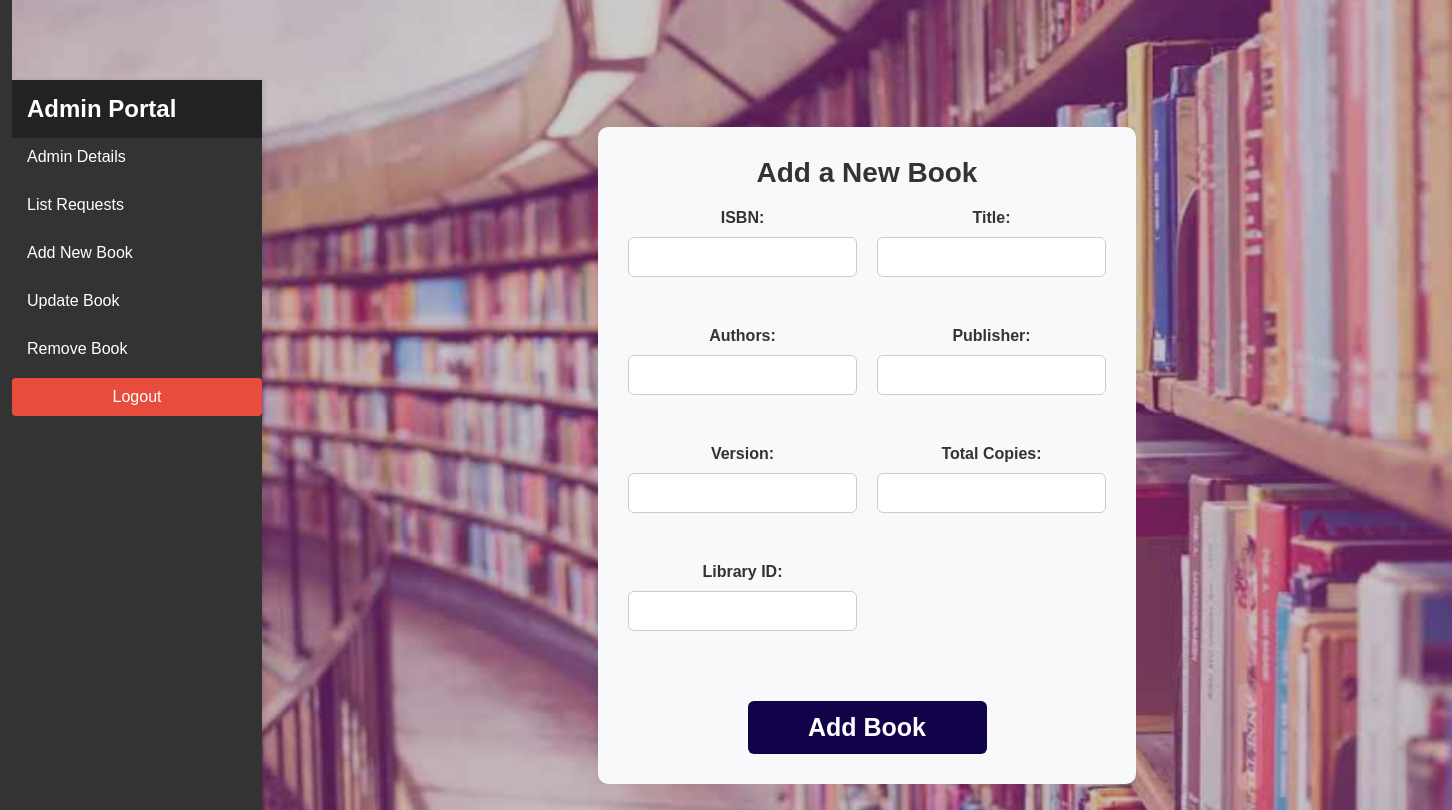
Test: submits form and handles success response
This screenshot has width=1452, height=810.
Note: Fill out the form
Step 1. Type "123456789" into the field labelled "ISBN:" → (742, 256), box [628,236,857,276]
Step 2. Type "React for Beginners" into the field labelled "Title:" → (992, 256), box [877,236,1106,276]
Step 3. Type "John Doe" into the field labelled "Authors:" → (742, 374), box [628,354,857,394]
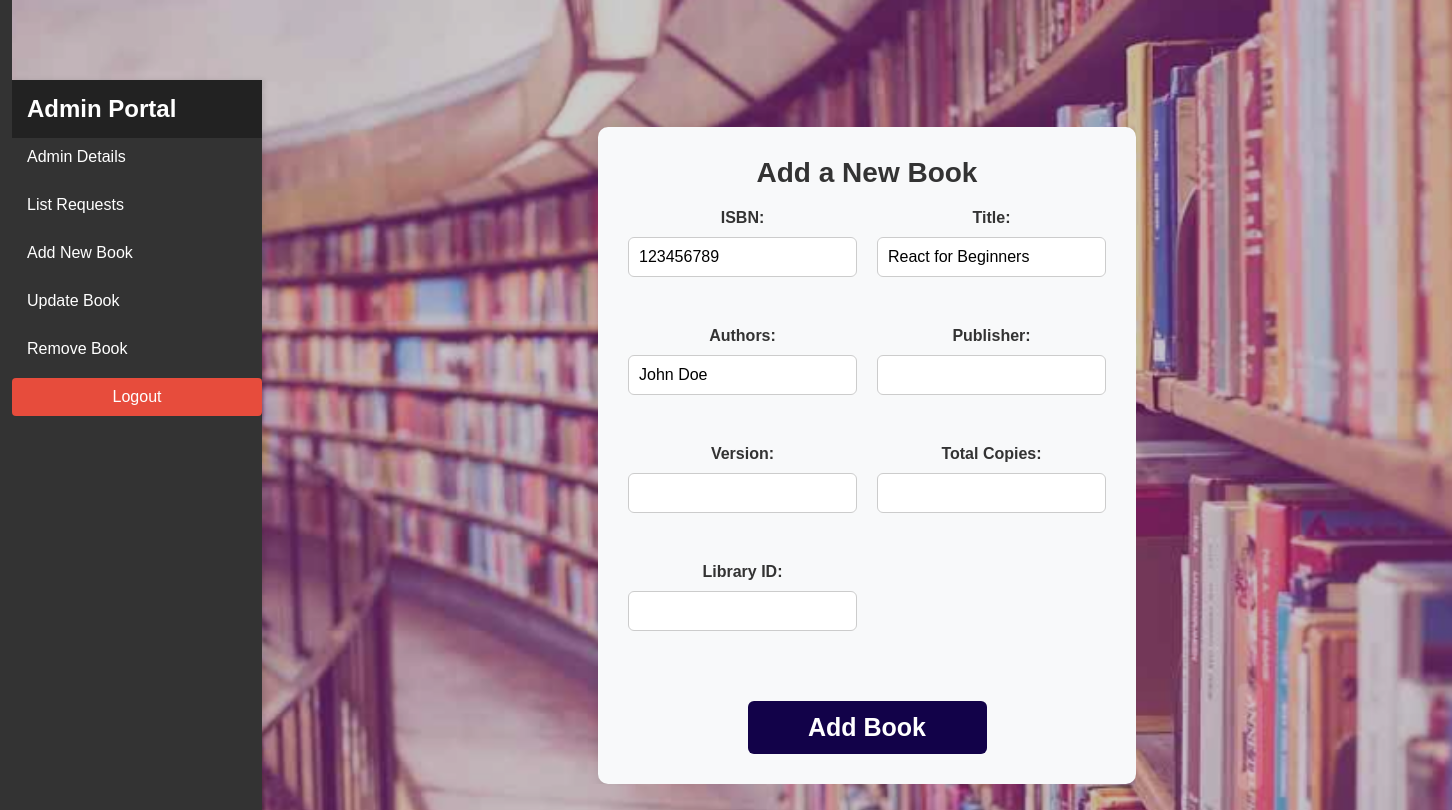
Step 4. Type "Tech Books" into the field labelled "Publisher:" → (992, 374), box [877,354,1106,394]
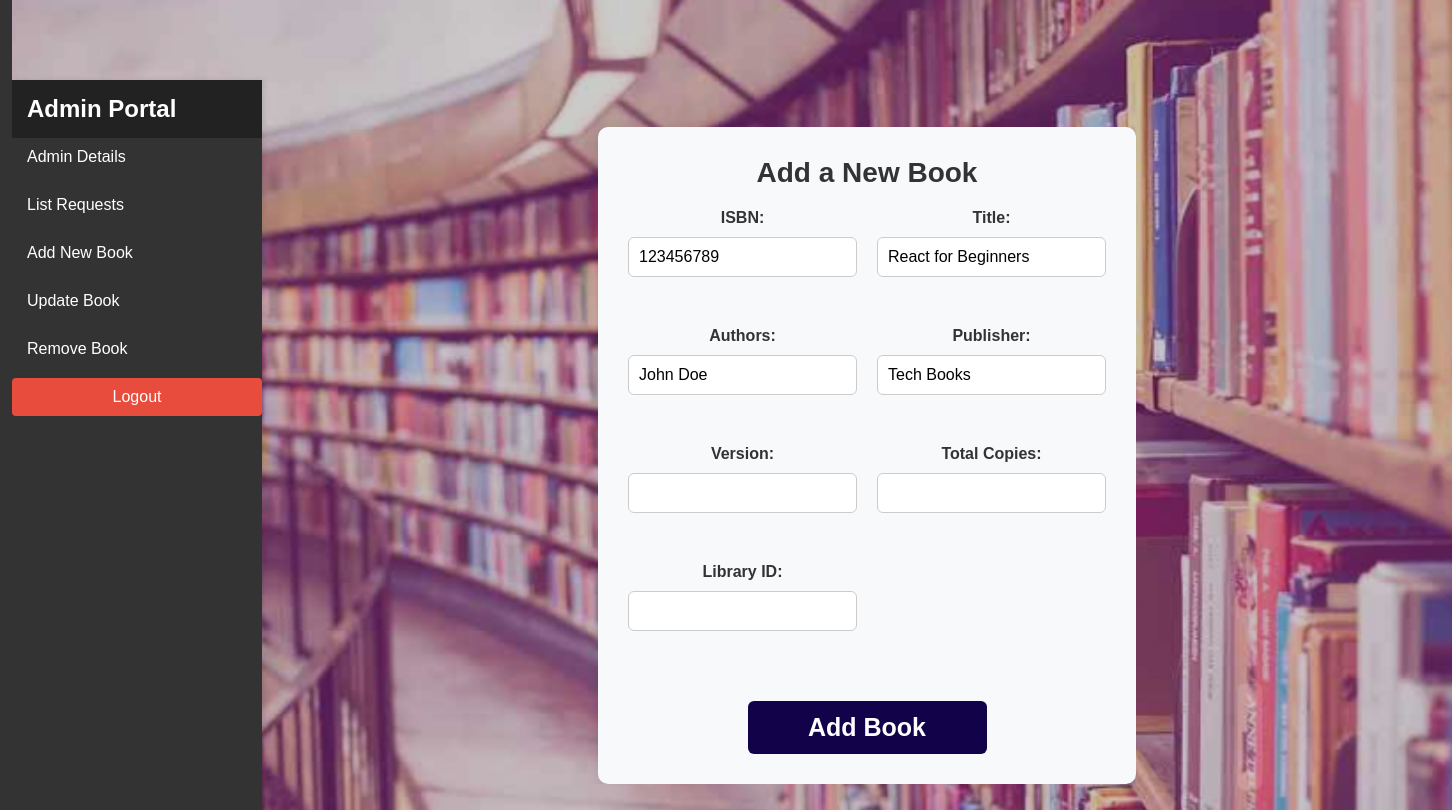
Step 5. Type "1.0" into the field labelled "Version:" → (742, 492), box [628,472,857,512]
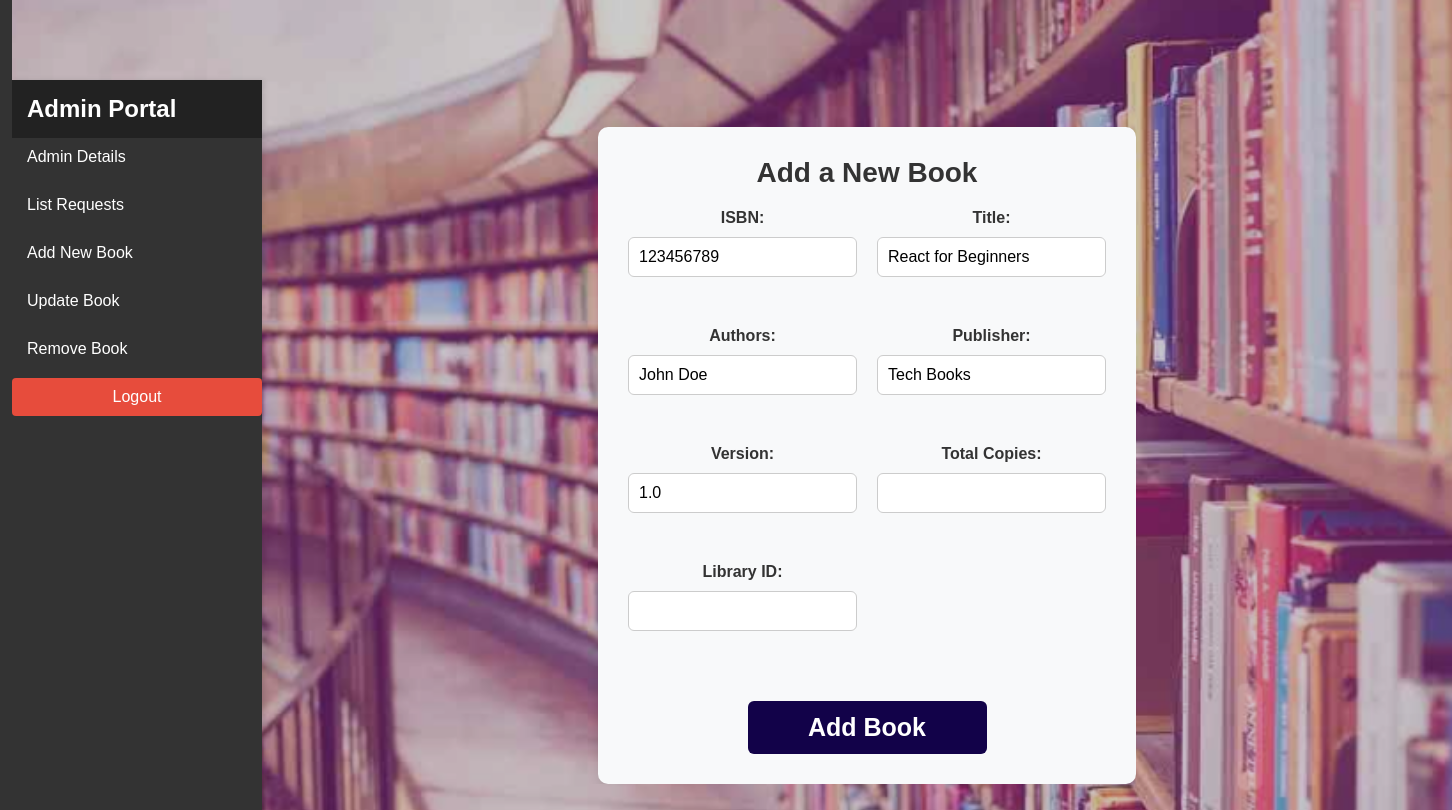
Step 6. Type "10" into the number field labelled "Total Copies:" → (992, 492), box [877,472,1106,512]
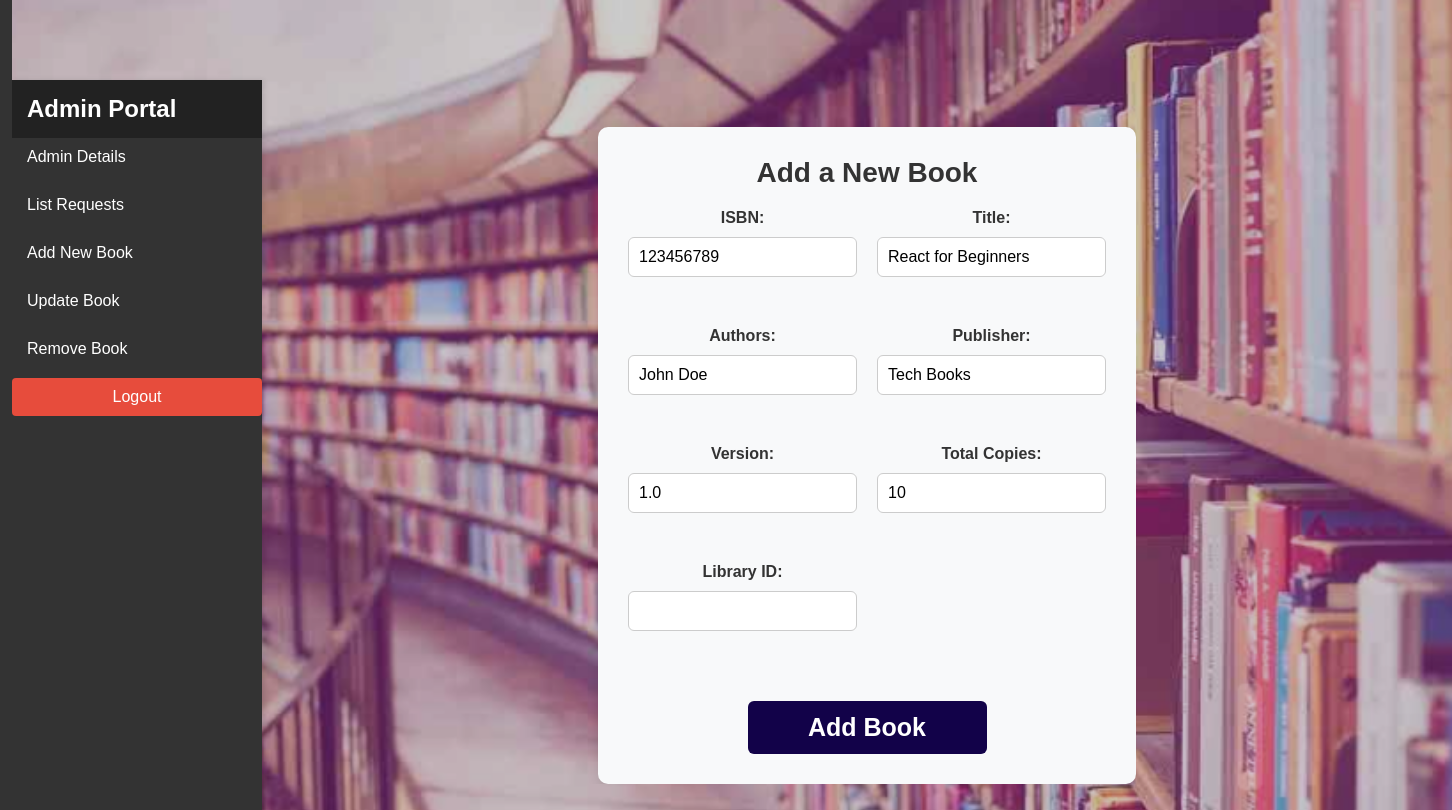
Step 7. Type "1" into the number field labelled "Library ID:" → (742, 610), box [628,590,857,630]
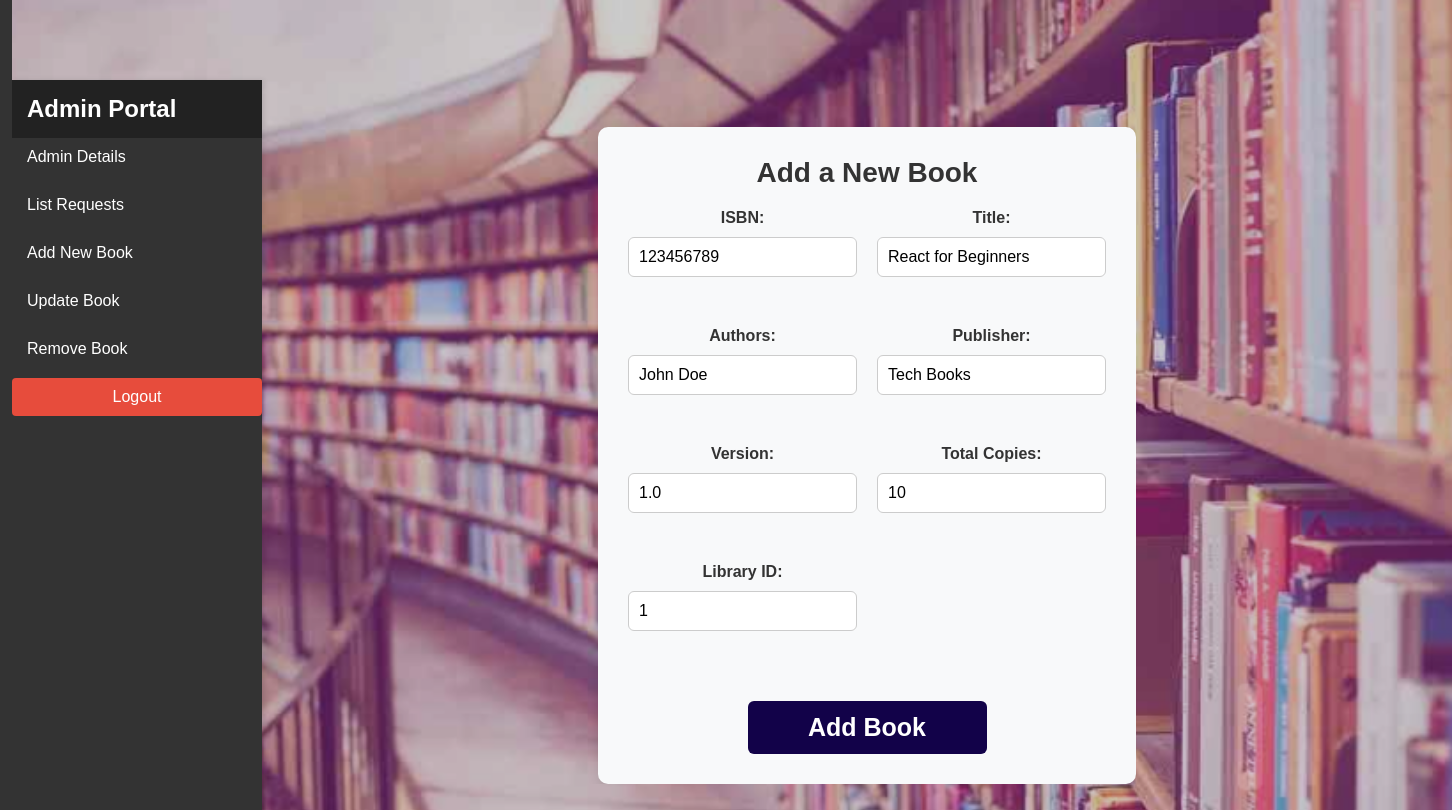
Note: Click the submit button
Step 8. Click the button "Add Book" → click(867, 727), box [748,700,986,754]
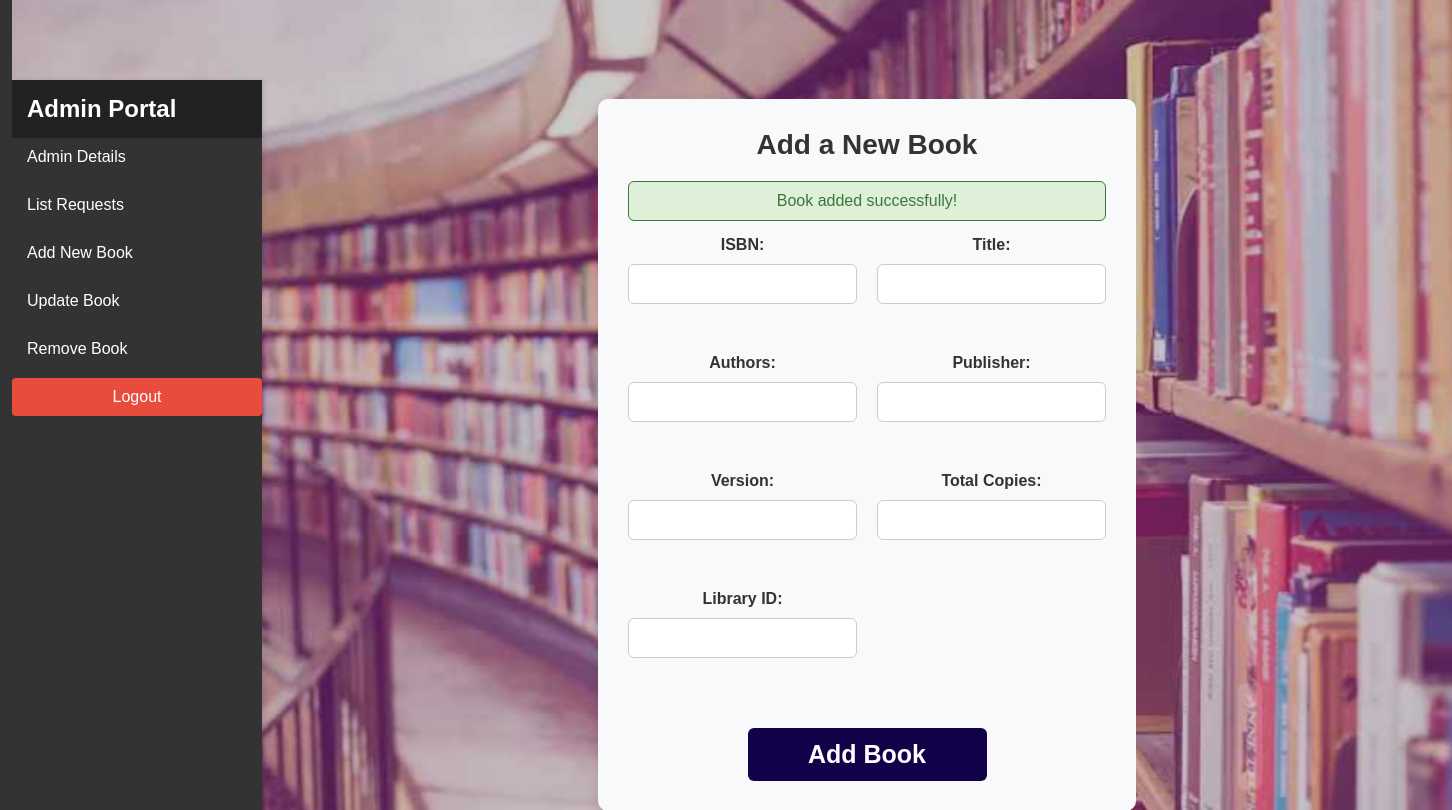
Result: the text "Book added successfully!" is shown at [628,181,1106,221]
Result: the field labelled "ISBN:" is empty at [628,264,857,304]
Result: the field labelled "Title:" is empty at [877,264,1106,304]
